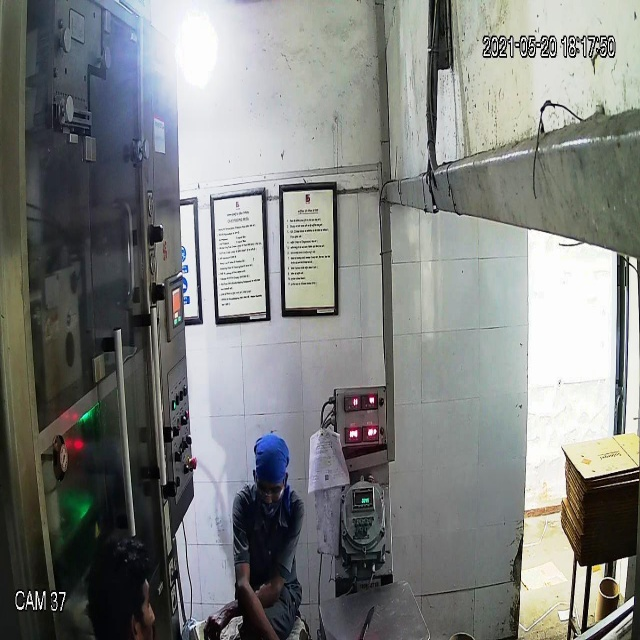Gafas: (252, 472, 291, 508)
